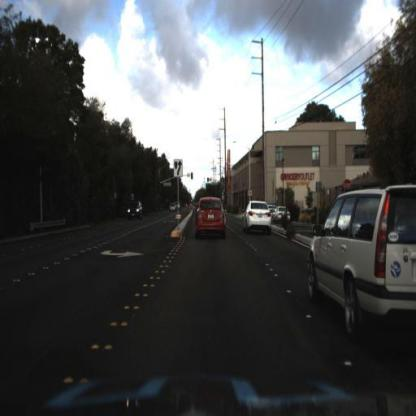car: (306, 173, 416, 374), (189, 195, 232, 244), (239, 193, 276, 241), (123, 195, 146, 221), (273, 204, 292, 225), (166, 199, 180, 215)
